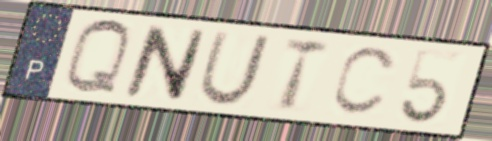5: (396, 46, 471, 128)
C: (327, 45, 402, 119)
N: (119, 22, 211, 105)
Q: (61, 16, 135, 98)
T: (278, 35, 335, 115)
U: (194, 29, 276, 109)
